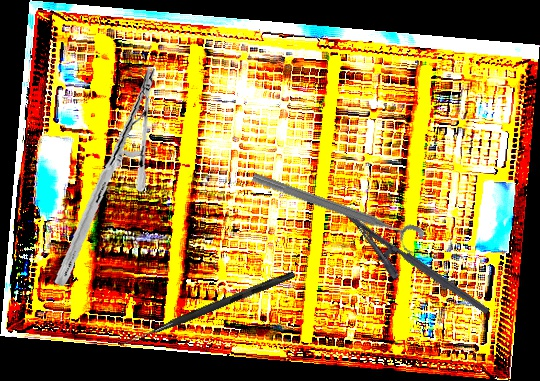Fixation Ring: (246, 168, 426, 257)
Hook Surgical: (119, 268, 296, 351)
Needle Holder: (32, 66, 180, 287), (329, 208, 491, 335)
